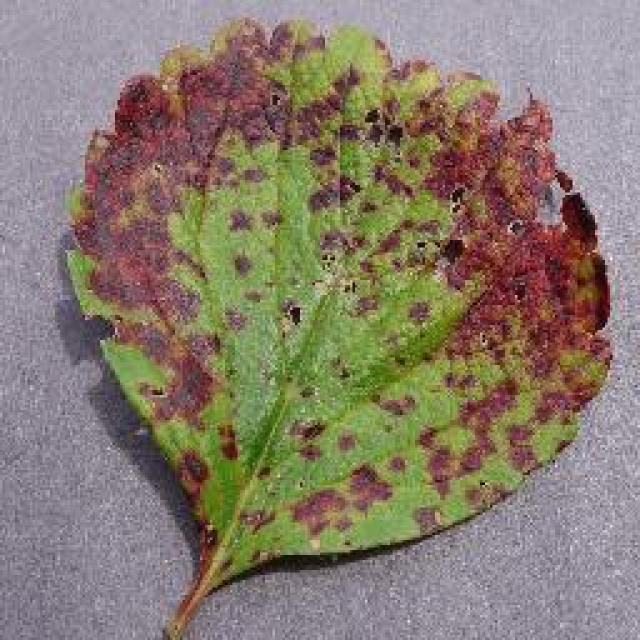Strawberry leaf scorch: (98, 88, 567, 445)
